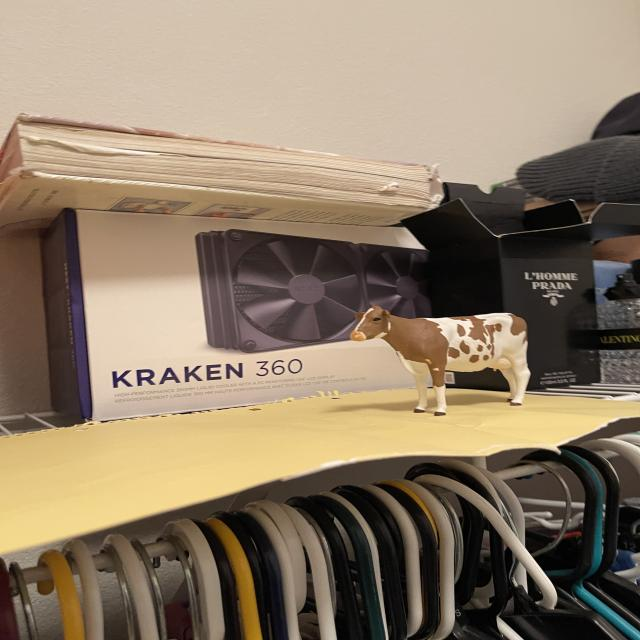cow: (346, 306, 533, 422)
